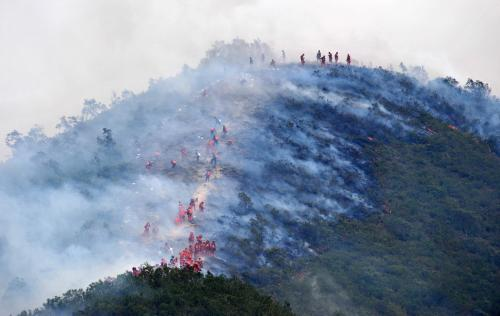smoke: (119, 84, 232, 267), (229, 52, 332, 250), (3, 151, 116, 278), (339, 54, 496, 131)
